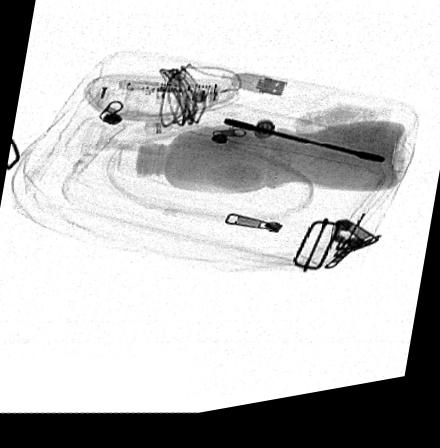Wrench: (220, 124, 388, 177)
